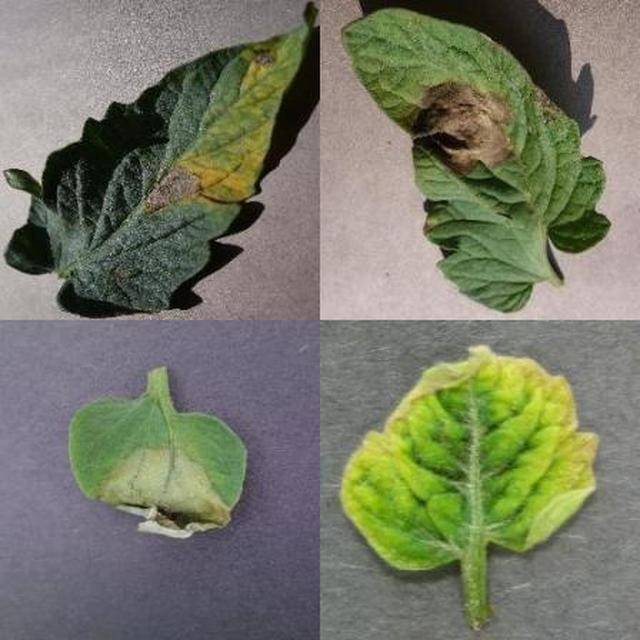Early Blight Leaf: (227, 208, 640, 640)
